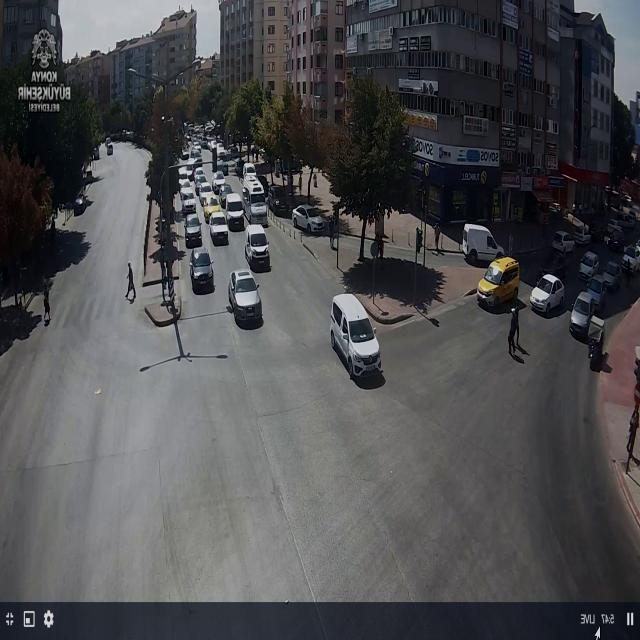Car: (477, 256, 519, 308), (227, 268, 264, 324), (570, 292, 601, 336), (531, 274, 565, 314), (244, 224, 271, 268), (189, 248, 215, 291), (292, 204, 326, 234), (584, 275, 610, 307), (224, 193, 246, 227), (268, 187, 293, 216), (208, 212, 229, 244), (184, 214, 203, 247), (551, 230, 576, 253), (579, 251, 600, 278), (602, 260, 622, 288), (202, 195, 222, 223), (621, 244, 640, 272), (179, 187, 196, 211), (606, 233, 626, 253), (198, 182, 215, 205), (570, 228, 591, 245), (218, 184, 234, 206), (212, 173, 226, 195), (178, 178, 192, 196), (194, 167, 207, 185)
Van: (330, 294, 382, 378), (461, 223, 506, 264), (242, 175, 270, 226)
